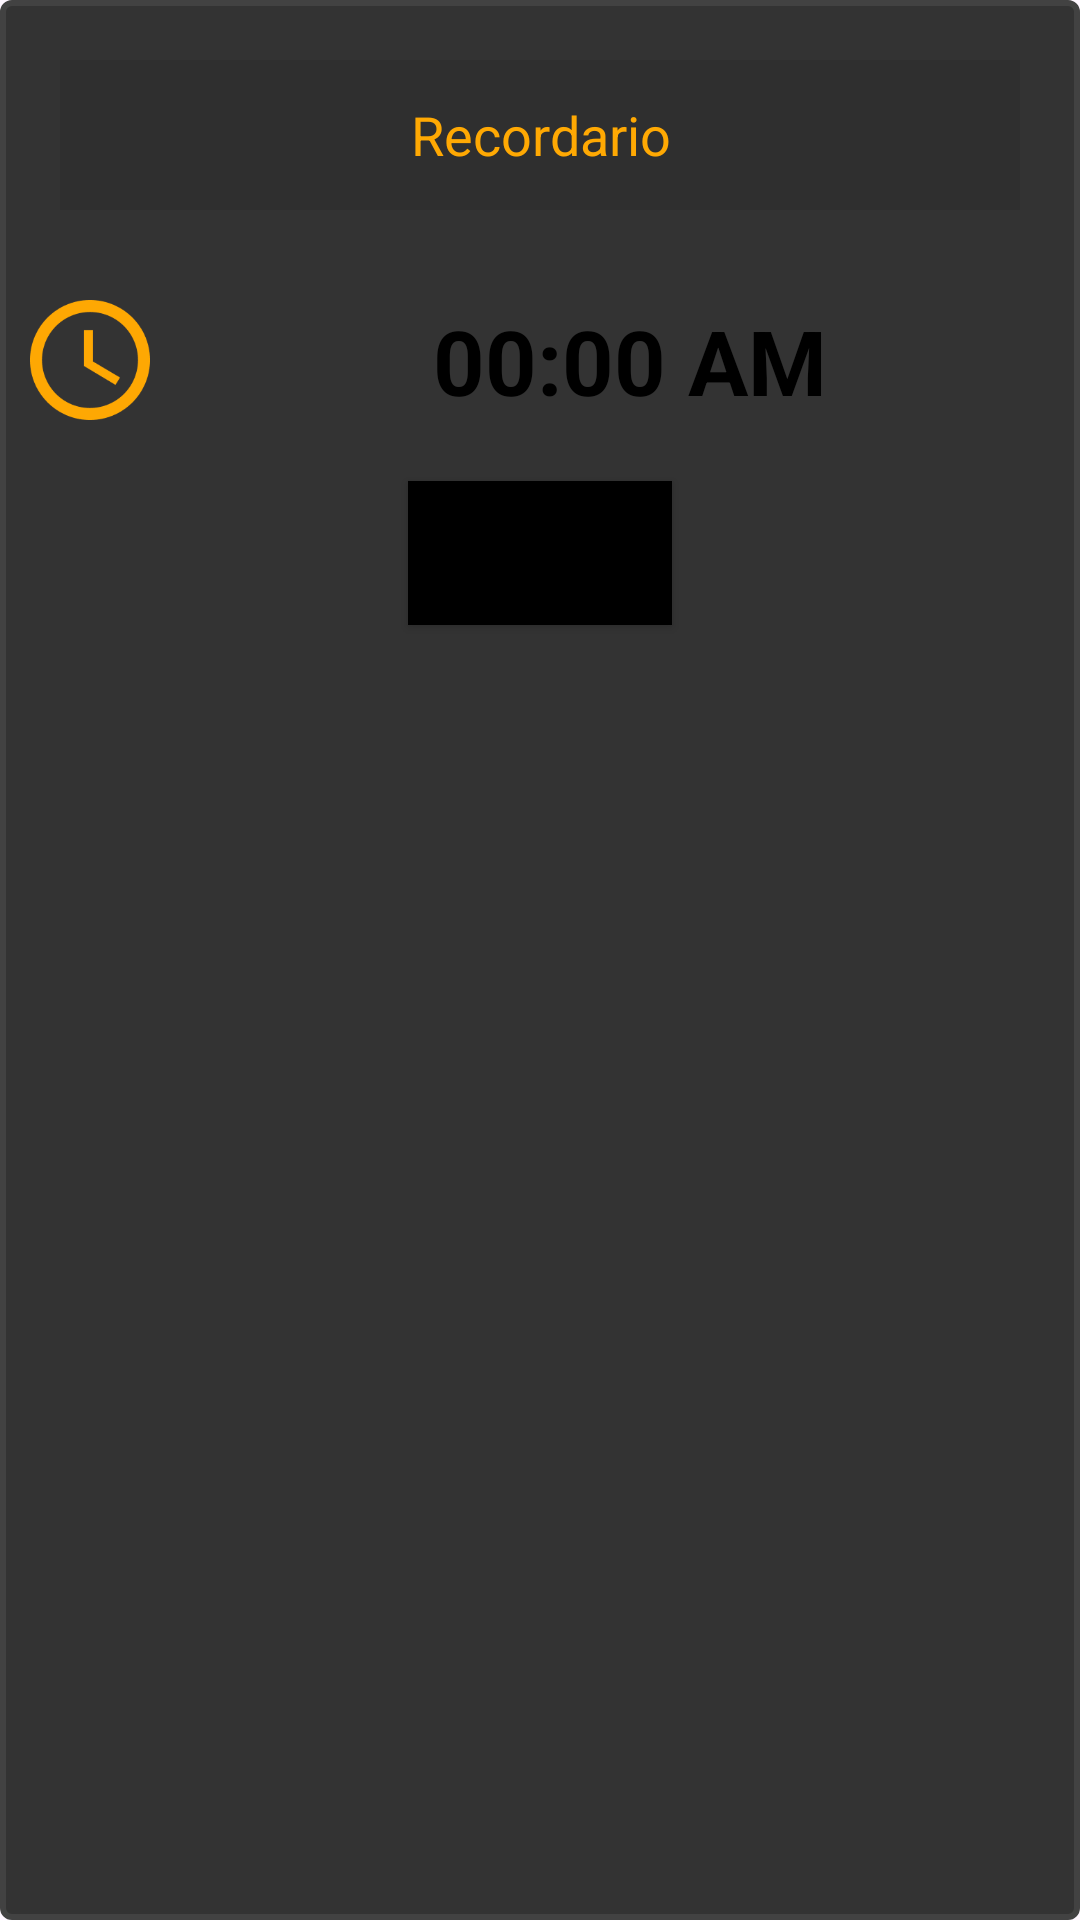

Locate icon controls on the screen. Image size 1080 x 1920, boxes as (x1, y1, x2, y2).
clock: (30, 300, 150, 420)
